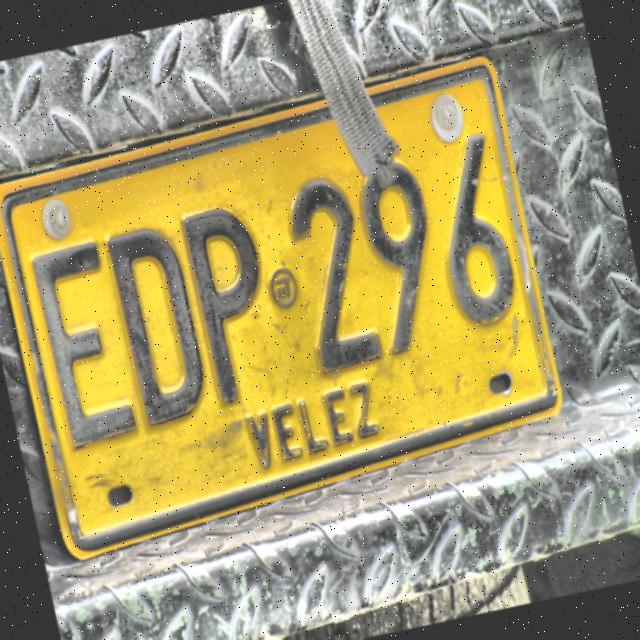2: (274, 172, 388, 376)
6: (421, 128, 535, 340)
9: (351, 158, 457, 358)
D: (106, 223, 214, 429)
E: (26, 236, 146, 454)
P: (176, 202, 288, 410)
